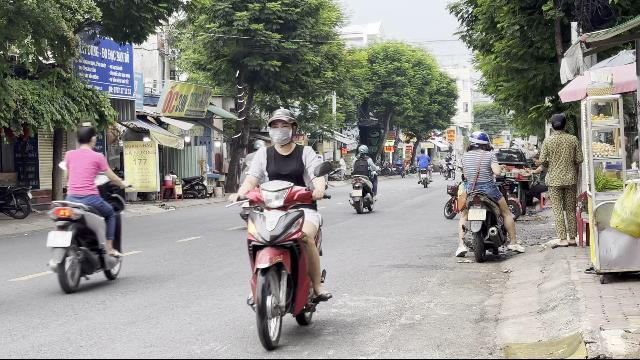helmet: (266, 108, 298, 144), (467, 130, 489, 150)
licenseplate: (46, 231, 72, 246), (468, 210, 486, 220)
motorcyclist: (230, 107, 336, 339), (44, 121, 128, 290), (450, 129, 520, 261)
nohelmet: (74, 124, 98, 148)
